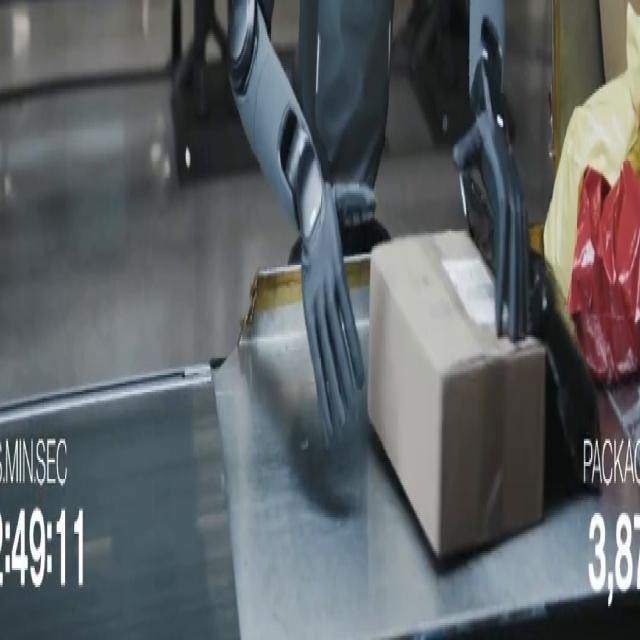package: (369, 231, 544, 557), (544, 5, 639, 300), (568, 162, 639, 383), (600, 0, 639, 82)
